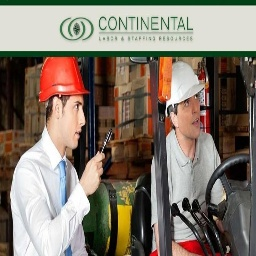helmet: (35, 56, 92, 106), (172, 62, 209, 125)
no-vest: (12, 151, 89, 254), (166, 139, 219, 249)
person: (11, 56, 92, 256), (148, 60, 219, 255)
